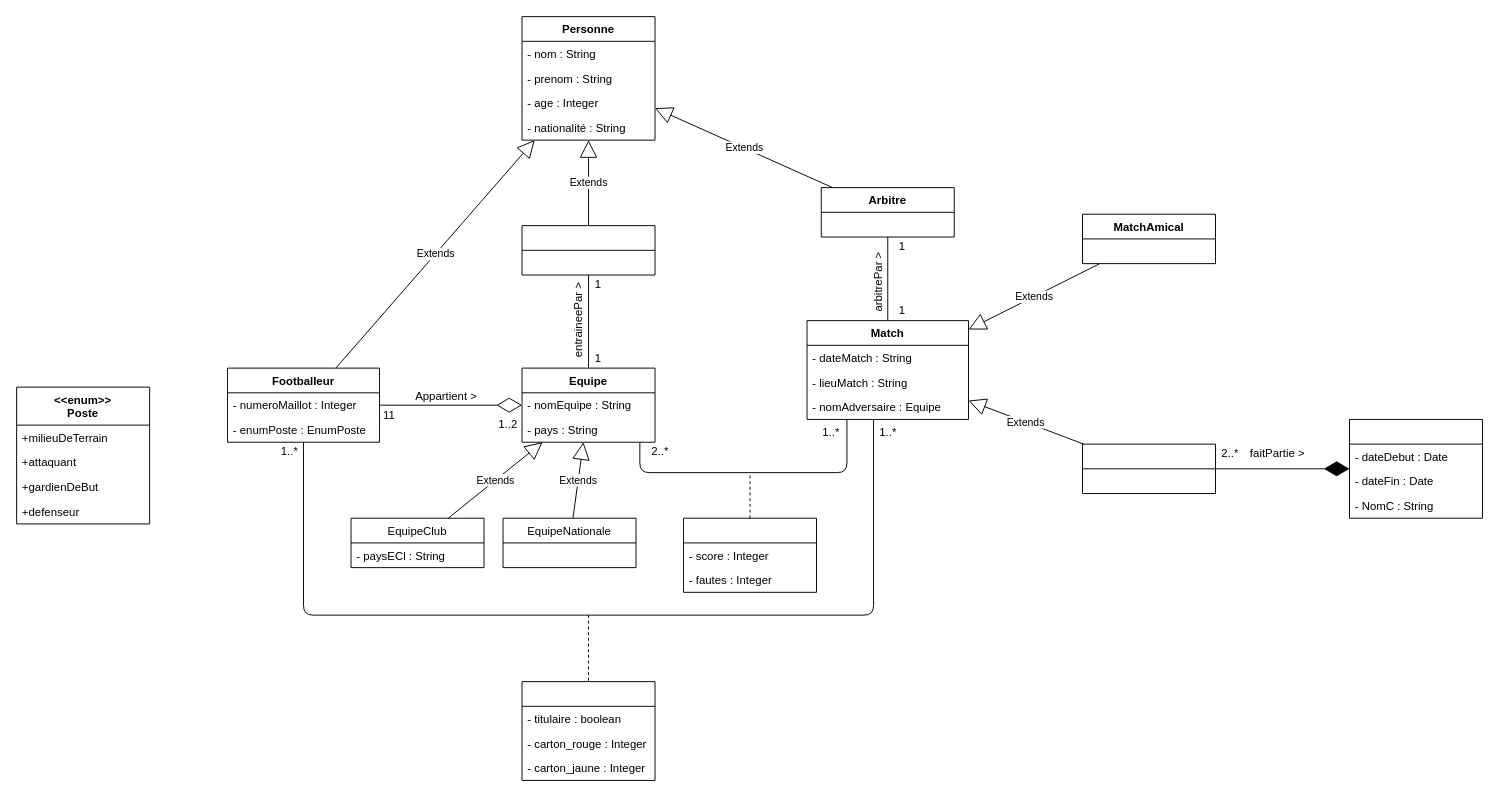
Image size: 1499x800. Some labels were removed from this diagram. Here are the shapes that lost their labels. From the top down, the box of each, then its label:
(521, 225, 655, 275): Entraîneur
(1082, 443, 1216, 494): MatchCompetition
(1349, 418, 1482, 518): Competition
(683, 517, 817, 592): EquipeParticipe
(521, 681, 655, 780): FootballeurParticipe
